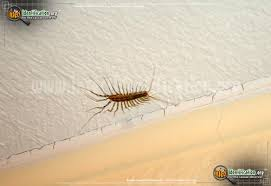centipede: (81, 78, 167, 116)
